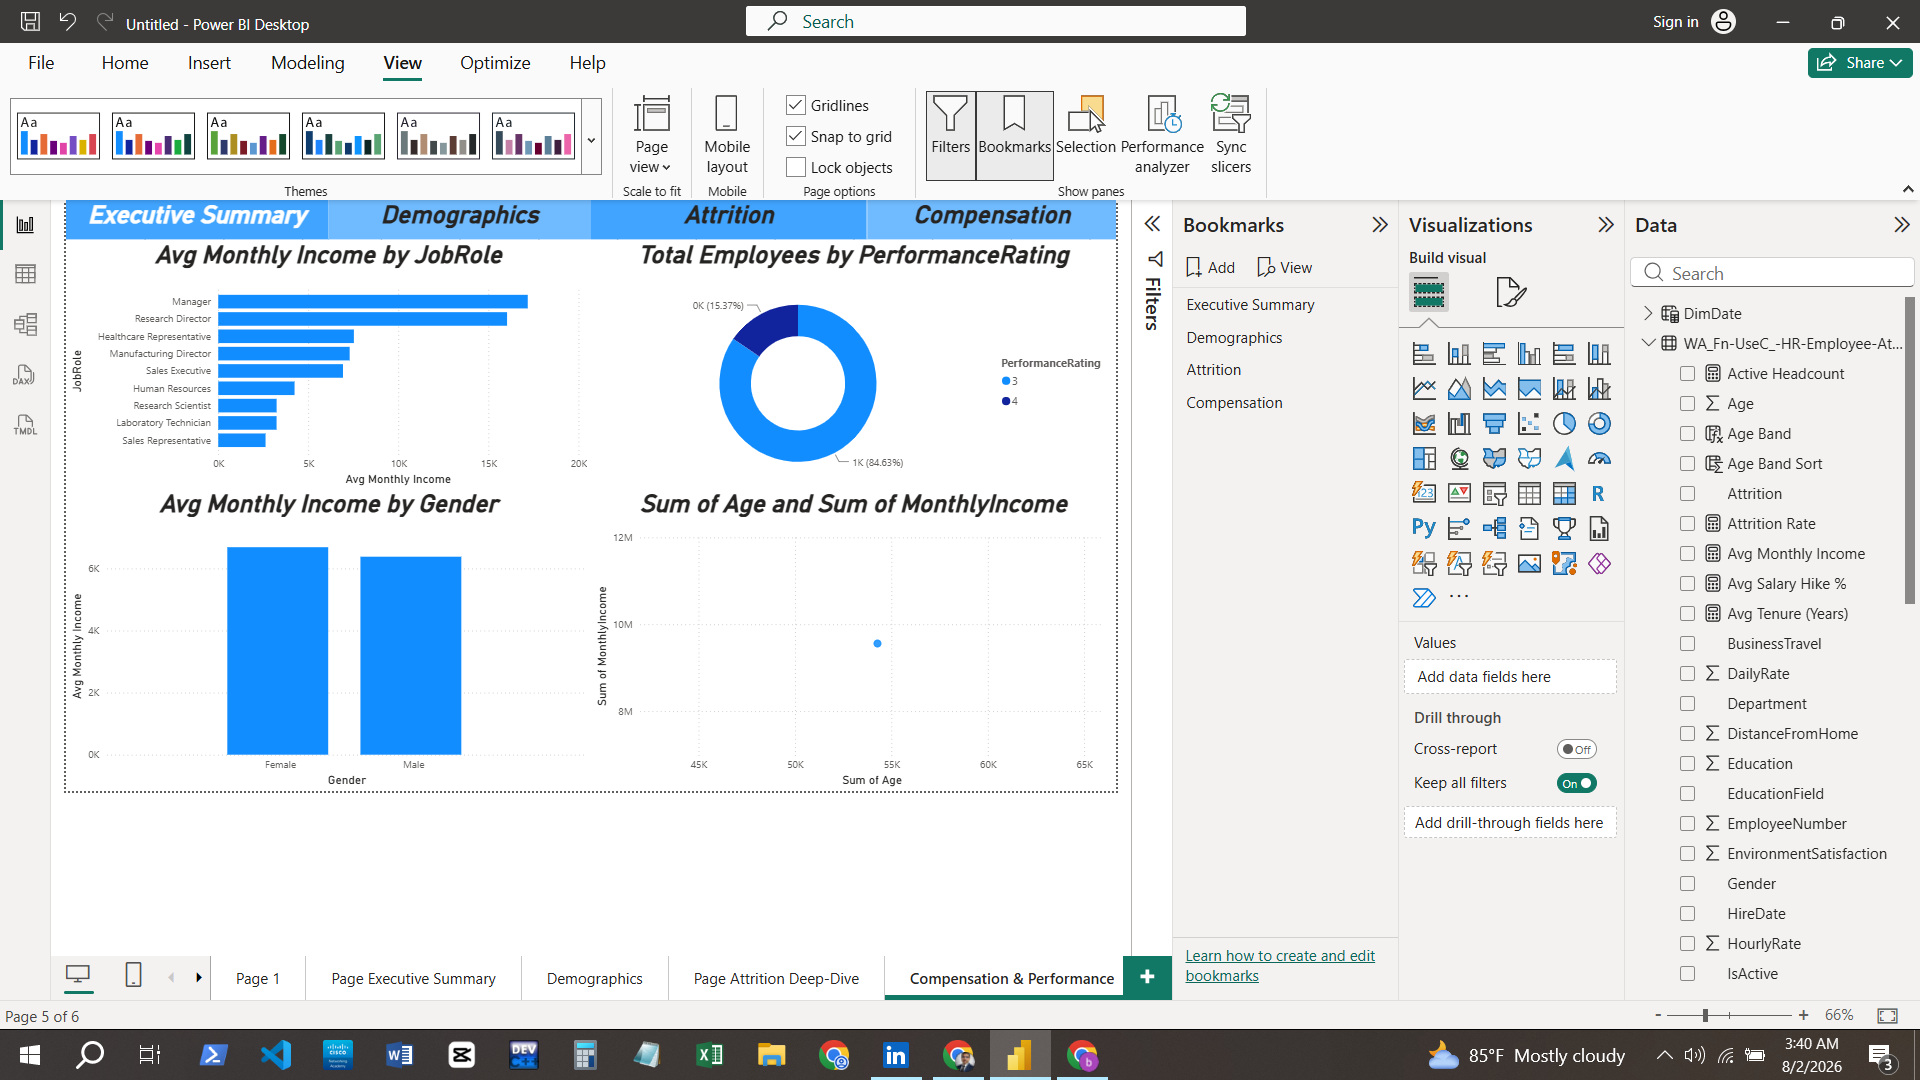

The dashboard page shown, as its layout file describes it:
{"tool":"powerbi","page":{"name":"Compensation & Performance","canvas":[1280,720],"ordinal":3},"visuals":[{"type":"clusteredBarChart","fields":{"Category":["WA_Fn-UseC_-HR-Employee-Attrition.JobRole"],"Y":["WA_Fn-UseC_-HR-Employee-Attrition.Avg Monthly Income"]},"box":[0,48,640,304],"z":0},{"type":"clusteredColumnChart","fields":{"Category":["WA_Fn-UseC_-HR-Employee-Attrition.Gender"],"Y":["WA_Fn-UseC_-HR-Employee-Attrition.Avg Monthly Income"]},"box":[0,352,640,368],"z":1000},{"type":"donutChart","fields":{"Category":["WA_Fn-UseC_-HR-Employee-Attrition.PerformanceRating"],"Y":["WA_Fn-UseC_-HR-Employee-Attrition.Total Employees"]},"box":[640,48,640,304],"z":2000},{"type":"scatterChart","fields":{"X":["Sum(WA_Fn-UseC_-HR-Employee-Attrition.Age)"],"Y":["Sum(WA_Fn-UseC_-HR-Employee-Attrition.MonthlyIncome)"]},"box":[640,352,640,368],"z":3000},{"type":"actionButton","title":"Executive Summary","box":[0,0,320,48],"z":4000},{"type":"actionButton","title":"Demographics","box":[320,0,320,48],"z":5000},{"type":"actionButton","title":"Attrition","box":[640,0,336,48],"z":6000},{"type":"actionButton","title":"Compensation","box":[976,0,304,48],"z":7000}]}

Visuals, with their boxes on the page's 1280x720 design canvas (x1, y1, x2, y2). These are canvas units, not pixel positions in the 1920x1080 screenshot, which may show the page scaled, cropped or inside an application window:
clusteredBarChart - WA_Fn-UseC_-HR-Employee-Attrition.JobRole x WA_Fn-UseC_-HR-Employee-Attrition.Avg Monthly Income: select_region(0, 48, 640, 352)
clusteredColumnChart - WA_Fn-UseC_-HR-Employee-Attrition.Gender x WA_Fn-UseC_-HR-Employee-Attrition.Avg Monthly Income: select_region(0, 352, 640, 720)
donutChart - WA_Fn-UseC_-HR-Employee-Attrition.PerformanceRating x WA_Fn-UseC_-HR-Employee-Attrition.Total Employees: select_region(640, 48, 1280, 352)
scatterChart - Sum(WA_Fn-UseC_-HR-Employee-Attrition.Age) x Sum(WA_Fn-UseC_-HR-Employee-Attrition.MonthlyIncome): select_region(640, 352, 1280, 720)
"Executive Summary" actionButton: select_region(0, 0, 320, 48)
"Demographics" actionButton: select_region(320, 0, 640, 48)
"Attrition" actionButton: select_region(640, 0, 976, 48)
"Compensation" actionButton: select_region(976, 0, 1280, 48)
